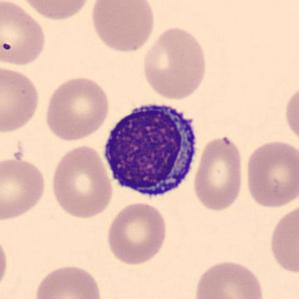Lymphocyte: (98, 96, 202, 204)
RBC: (140, 25, 210, 101), (49, 143, 115, 220), (42, 73, 112, 142), (104, 200, 170, 266), (192, 134, 246, 213), (243, 138, 298, 210), (88, 0, 156, 54), (0, 0, 48, 68), (0, 156, 48, 223), (192, 258, 266, 299), (0, 64, 42, 134), (31, 262, 104, 299), (268, 200, 298, 276), (16, 0, 94, 22), (282, 82, 299, 146), (0, 231, 11, 296)
